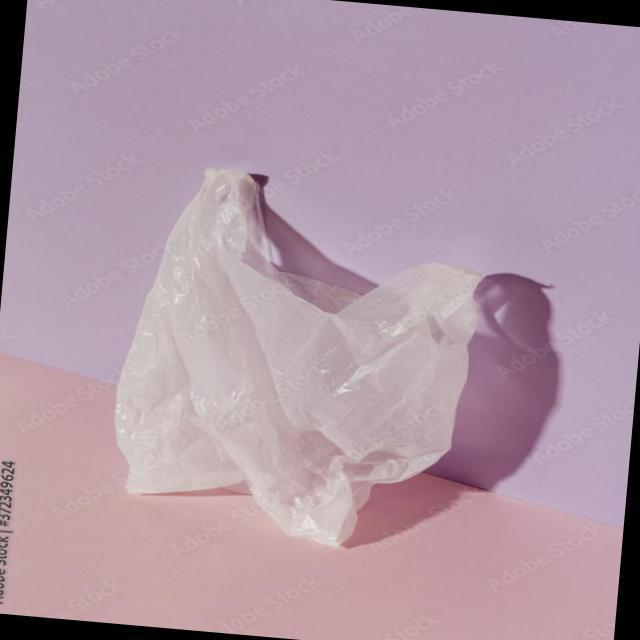Plastic_Bag: (100, 153, 502, 554)
